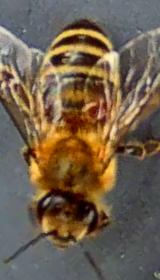varroa_mite: (74, 88, 110, 126)
